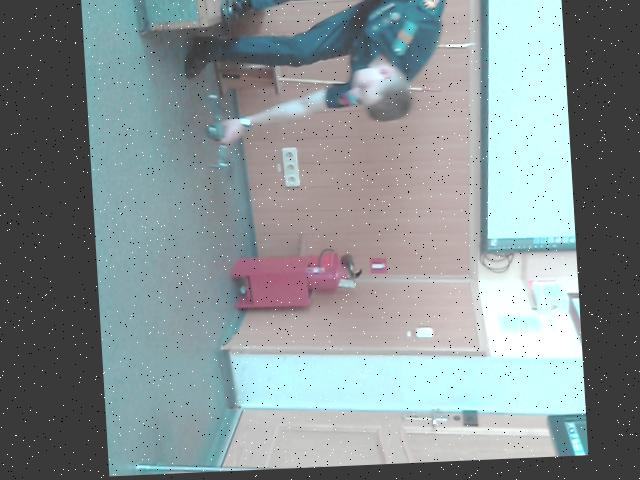drone: (193, 79, 240, 182)
